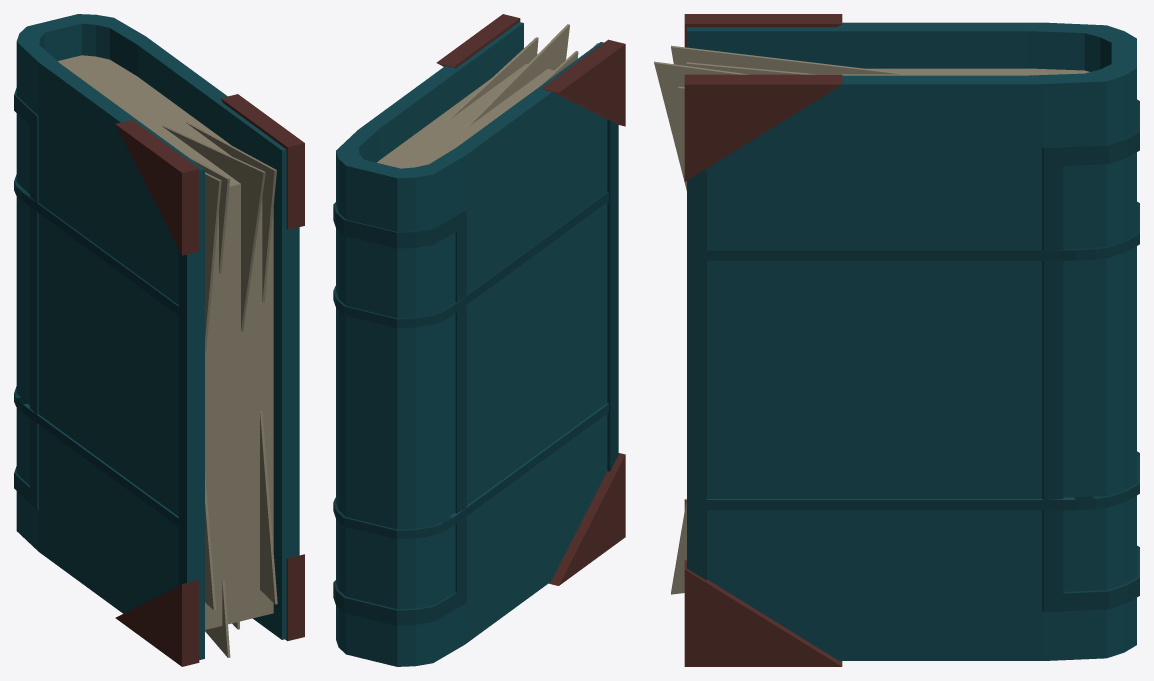
File: Book4_Closed.glb
3 renders of one model, left to right at view 1: azimuth 30°, elevation 25°; view 2: azimuth 150°, elevation 25°; view 3: azimuth 270°, elevation 25°, orthographic. The views are drawn at different scales.
Visible parts, largest first — view 1: Book4_Closed_Cube.053; view 2: Book4_Closed_Cube.053; view 3: Book4_Closed_Cube.053.
Part boxes in pixels (x1,y1,x2,y2): Book4_Closed_Cube.053: [14, 14, 304, 666]; Book4_Closed_Cube.053: [333, 14, 625, 666]; Book4_Closed_Cube.053: [654, 14, 1139, 666].
Size of the model in its own units: 0.2074 by 0.8068 by 0.6028.
